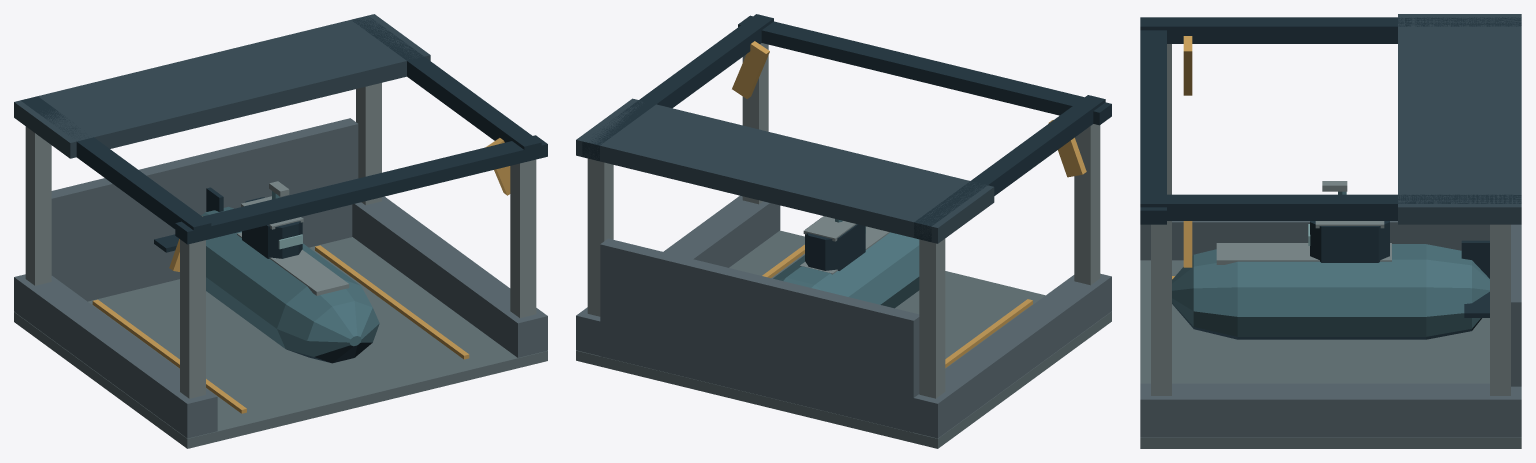
The model's file is submarine-submarine-pen.glb.
The picture shows the model from 3 angles, left to right: view 1: azimuth 30°, elevation 25°; view 2: azimuth 150°, elevation 25°; view 3: azimuth 270°, elevation 25°; orthographic projection. The views are drawn at different scales.
Parts seen in each view (by area): view 1: intact_structure; view 2: intact_structure; view 3: intact_structure.
Boxes of the visible parts, left/top/right/bottom form: intact_structure: left=14, top=14, right=547, bottom=448; intact_structure: left=576, top=14, right=1111, bottom=448; intact_structure: left=1140, top=14, right=1521, bottom=448.
Bounding box in the file's own units: 12 × 7 × 10.
